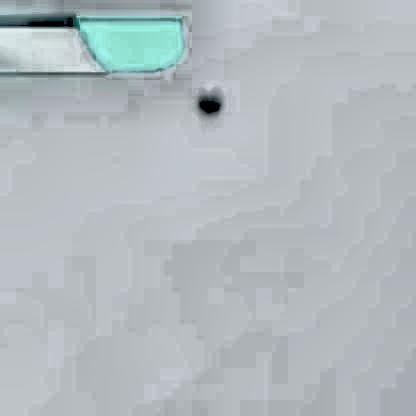golfball: (194, 82, 219, 112)
